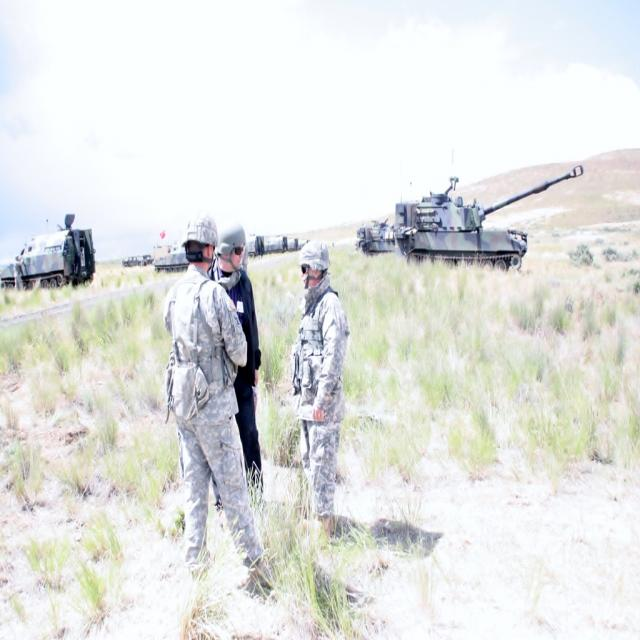tank: (392, 148, 582, 275), (353, 157, 412, 254)
